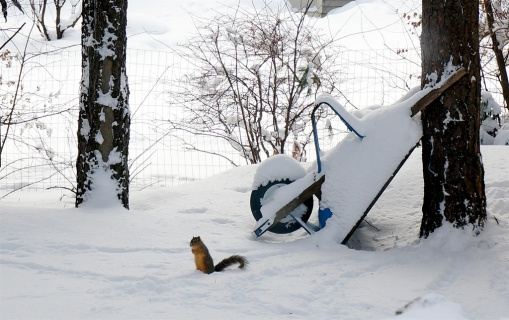Squirrel: (189, 235, 249, 277)
